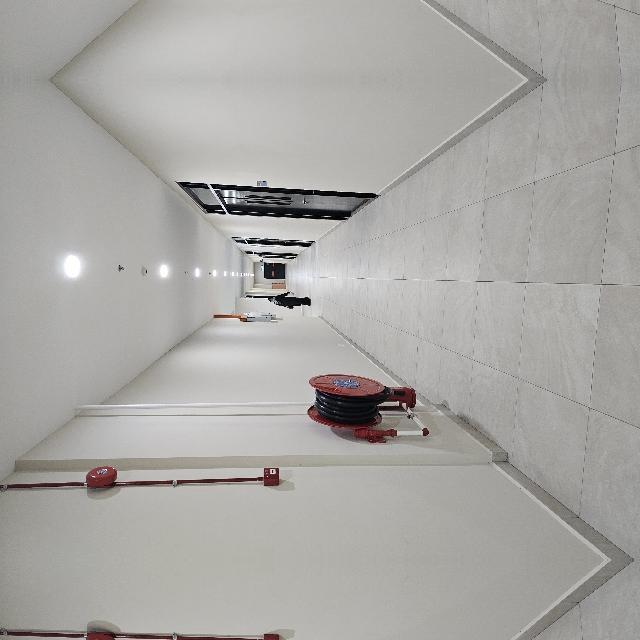door: (338, 254, 379, 458), (280, 342, 298, 366)
obstacle: (112, 382, 190, 512), (112, 608, 189, 640)
person: (249, 346, 273, 394)
